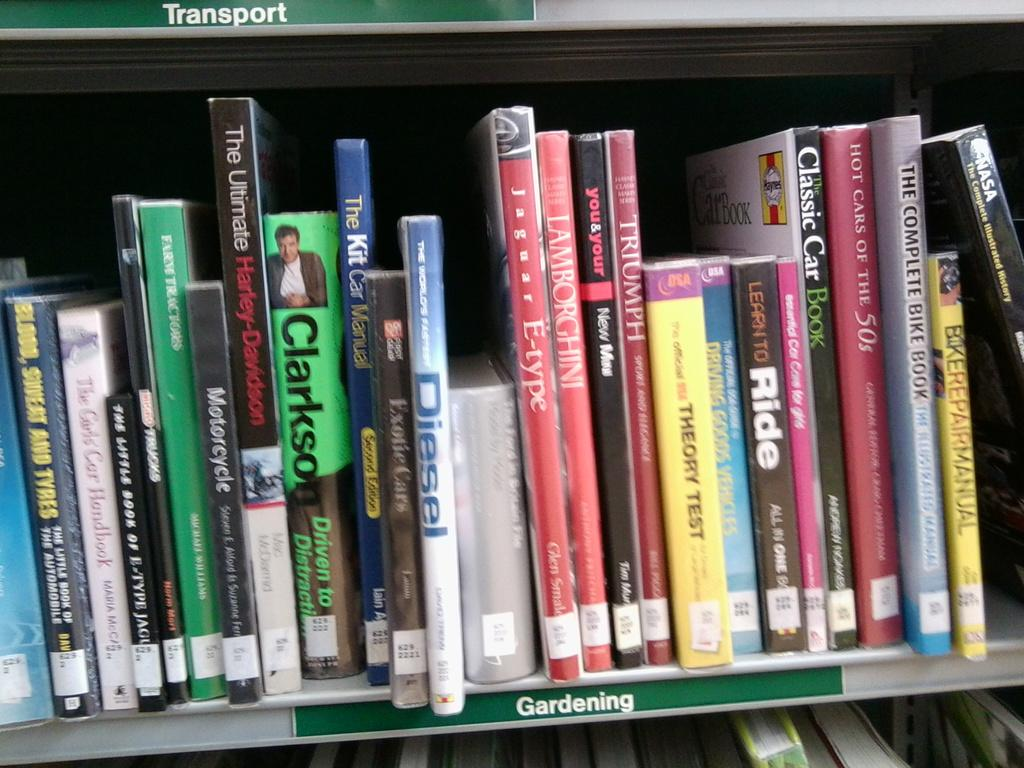Book: (0, 84, 1023, 735), (276, 682, 1023, 767), (927, 248, 988, 660)
